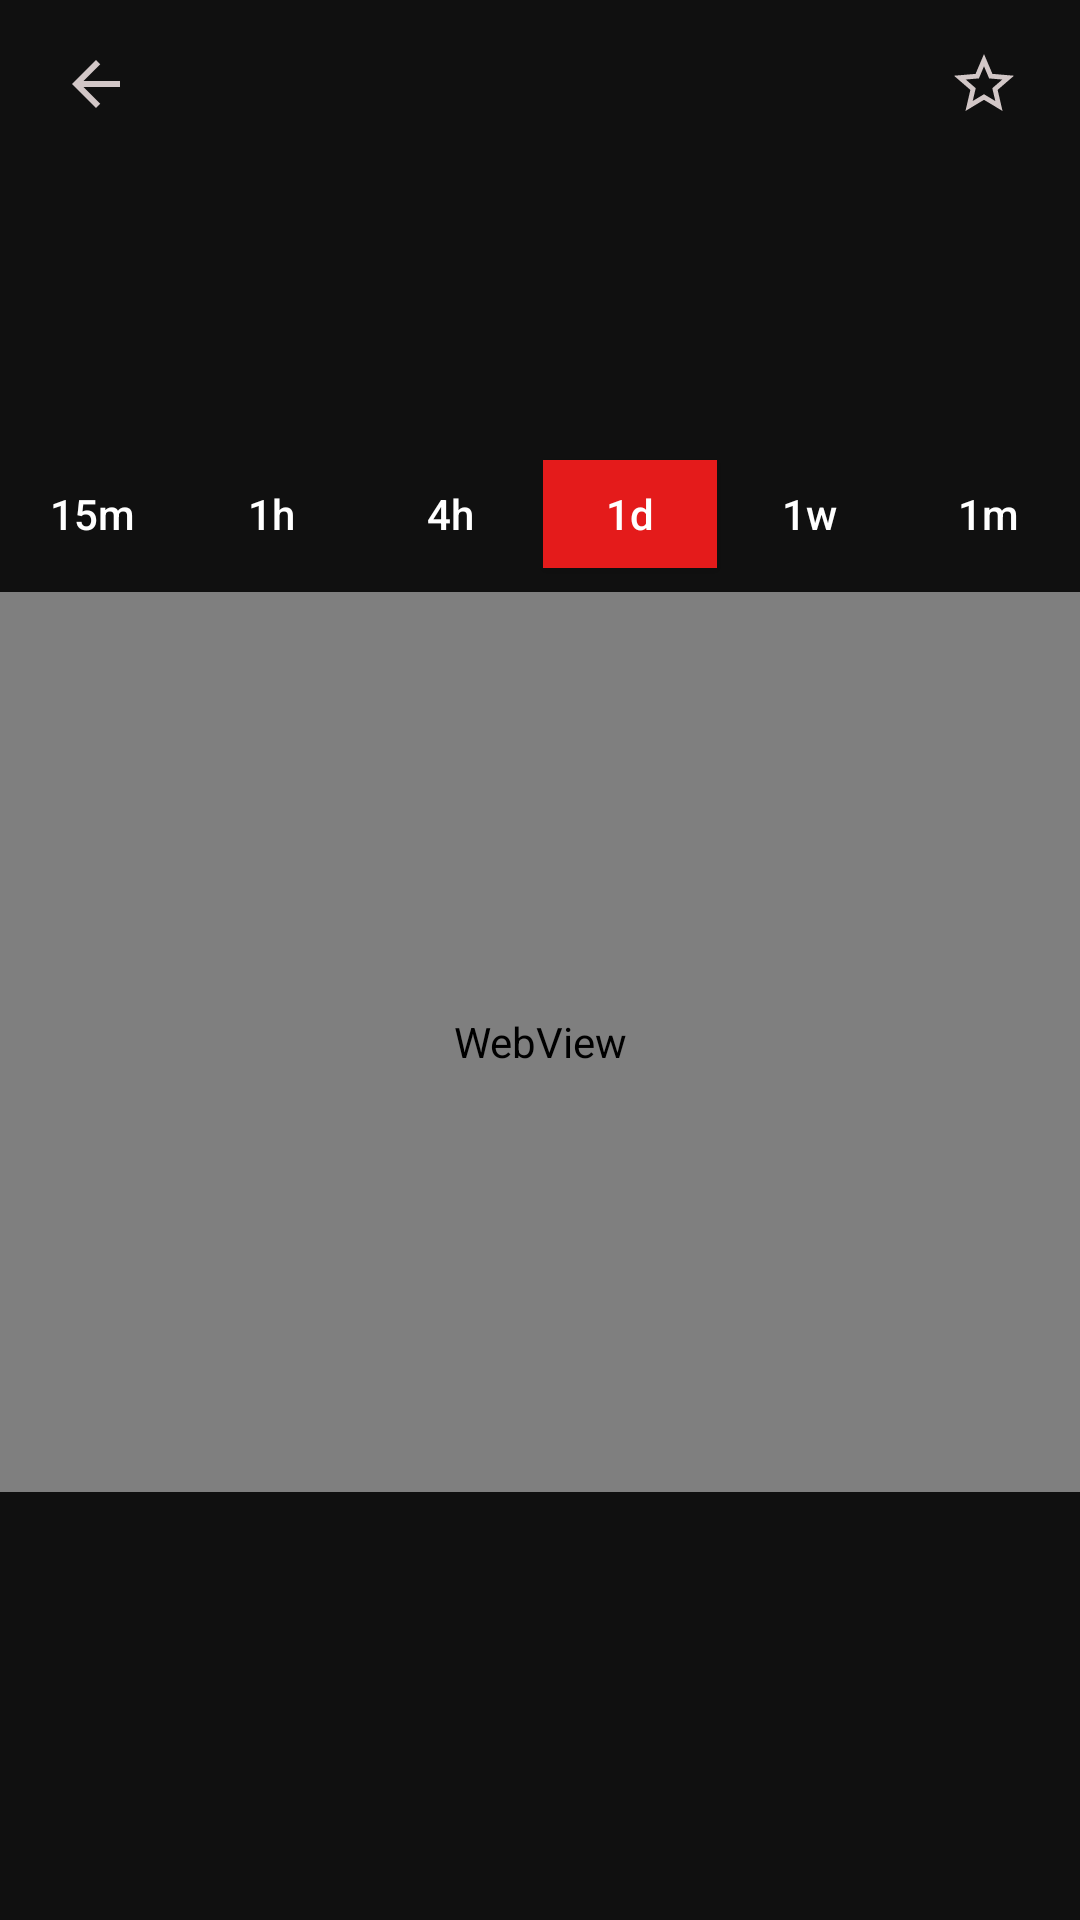

Where to tap for icons on this 1080x1920 app screen, as [x,y]:
arrow back: [96,84]
star border: [984,82]
